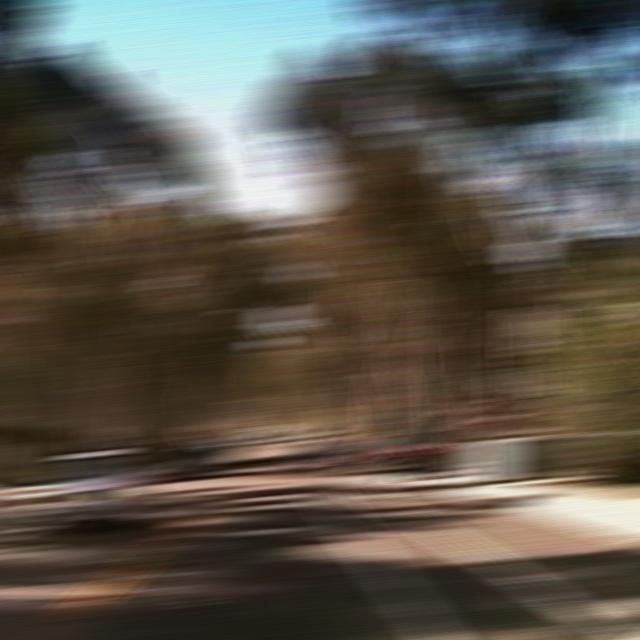stop_sign: (454, 391, 490, 416)
